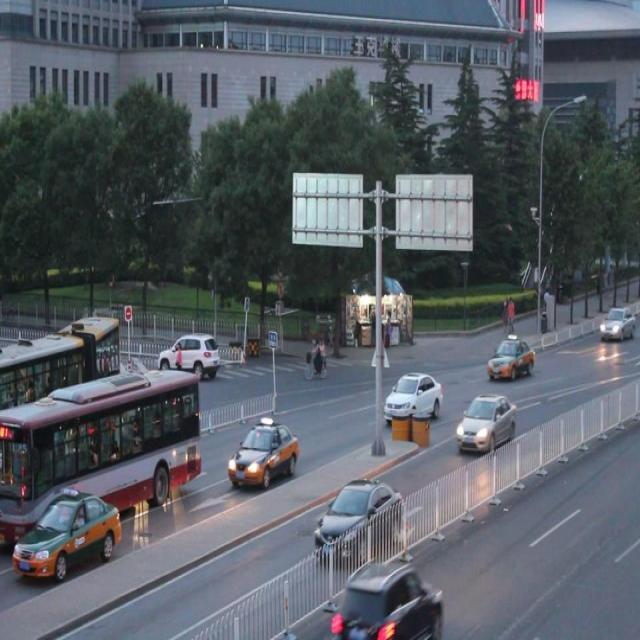car: (12, 485, 121, 578), (330, 558, 443, 640), (315, 478, 402, 562), (227, 415, 298, 489), (452, 391, 516, 452), (380, 367, 443, 427), (159, 332, 218, 384), (484, 331, 534, 385), (128, 367, 172, 413)
van: (1, 372, 200, 544), (1, 314, 122, 411)
